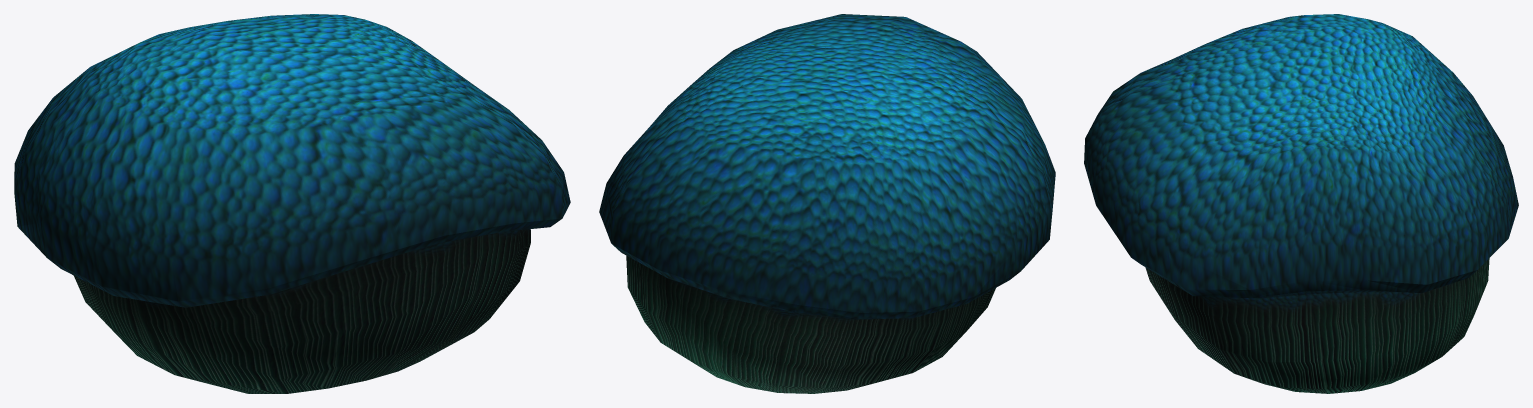
Rendered from MushroomBlueMedium2.obj.
3 views of the same model, side by side, from view 1: azimuth 30°, elevation 25°; view 2: azimuth 150°, elevation 25°; view 3: azimuth 270°, elevation 25° (orthographic). The views are drawn at different scales.
Visible parts, largest first — view 1: MushroomBlueMedium2; view 2: MushroomBlueMedium2; view 3: MushroomBlueMedium2.
Part boxes in pixels (x1,y1,x2,y2): MushroomBlueMedium2: [14, 14, 570, 393]; MushroomBlueMedium2: [599, 14, 1055, 393]; MushroomBlueMedium2: [1084, 14, 1518, 393].
Bounding box in the file's own units: 0.3047 × 0.2218 × 0.3.
